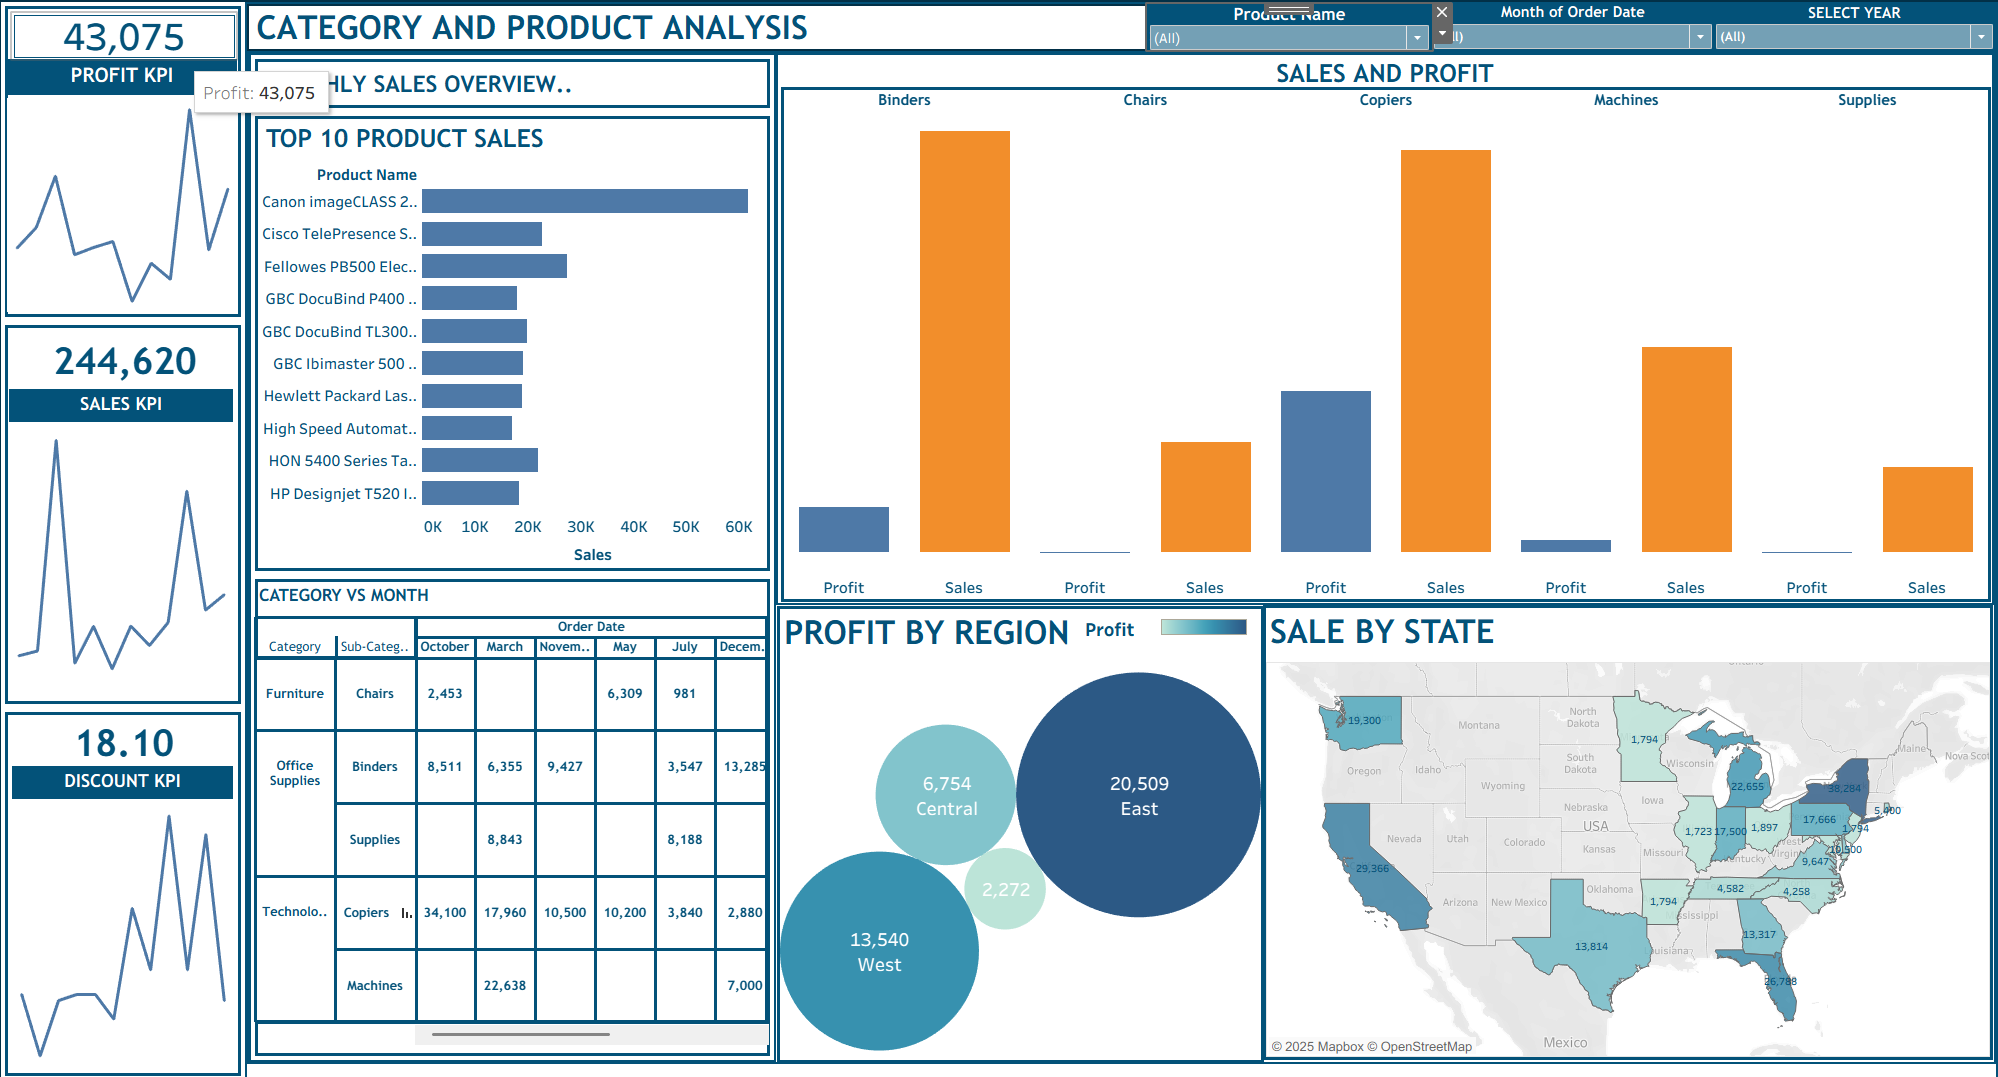

The page's visual inventory and layout, read from the dashboard file:
{"tool":"tableau","page":{"name":"Dashboard 1","canvas":[2000,1100],"ordinal":0},"visuals":[{"type":"blank","box":[2,2,244,319]},{"type":"filter","title":"MONTH","param":"[federated.0nidds01dw5ad413dkrb91yhfium].[mn:Order Date:ok]","box":[1432,3,284,48]},{"type":"filter","title":"PRODUCT NAME","param":"[federated.0nidds01dw5ad413dkrb91yhfium].[none:Product Name:nk]","box":[1148,4,285,46]},{"type":"filter","title":"YEAR","param":"[federated.0nidds01dw5ad413dkrb91yhfium].[yr:Order Date:ok]","box":[1714,4,283,47]},{"type":"text","box":[250,6,1745,43]},{"type":"worksheet","title":"PROFIT","mark":"Automatic","box":[13,13,224,46]},{"type":"worksheet","title":"MONTH","mark":"Automatic","box":[1011,51,65,206]},{"type":"text","box":[252,55,523,57]},{"type":"text","box":[779,55,1214,38]},{"type":"worksheet","title":"PROFIT KPI","mark":"Automatic","rows":["Profit"],"cols":["Order Date"],"box":[8,59,230,253]},{"type":"worksheet","title":"sales and profit","mark":"Automatic","cols":["Sub-Category"],"box":[782,87,1210,515]},{"type":"blank","box":[779,93,1214,480]},{"type":"blank","box":[252,112,523,463]},{"type":"worksheet","title":"top 10 products","mark":"Automatic","rows":["Product Name"],"cols":["Sales"],"box":[263,120,502,452]},{"type":"worksheet","title":"YEAR","mark":"Automatic","box":[1178,159,666,366]},{"type":"worksheet","title":"STATE","mark":"Automatic","box":[621,310,135,132]},{"type":"blank","box":[2,321,244,387]},{"type":"worksheet","title":"SALES KPI","mark":"Automatic","box":[14,333,223,56]},{"type":"worksheet","title":"SALES","mark":"Automatic","rows":["Sales"],"cols":["Order Date"],"box":[10,389,224,315]},{"type":"worksheet","title":"PRODUCT NAME","mark":"Automatic","box":[782,488,666,366]},{"type":"blank","box":[779,573,1214,12]},{"type":"blank","box":[252,575,523,485]},{"type":"worksheet","title":"CATEGORY VS MONTH","mark":"Automatic","rows":["Category","Sub-Category"],"cols":["Order Date"],"box":[255,581,515,503]},{"type":"blank","box":[777,605,1218,393]},{"type":"worksheet","title":"SALE BY STATE","mark":"Automatic","box":[1264,605,730,455]},{"type":"worksheet","title":"PROFIT BY REGION","mark":"Circle","box":[778,606,487,457]},{"type":"legend","title":"PROFIT BY REGION","param":"[federated.0nidds01dw5ad413dkrb91yhfium].[sum:Profit:qk]","box":[1086,615,166,39]},{"type":"blank","box":[2,708,244,372]},{"type":"worksheet","title":"DISCOUNT KPI","mark":"Automatic","box":[11,719,227,47]},{"type":"worksheet","title":"DISCOUNT","mark":"Automatic","rows":["Discount"],"cols":["Order Date"],"box":[13,766,221,303]}]}

Visuals, with their boxes in screenshot pixels (x1, y1, x2, y2):
blank: <region>0, 0, 241, 316</region>
"MONTH" filter: <region>1428, 0, 1713, 46</region>
"PRODUCT NAME" filter: <region>1144, 0, 1429, 45</region>
"YEAR" filter: <region>1711, 0, 1994, 46</region>
text: <region>245, 1, 1992, 44</region>
"PROFIT" worksheet: <region>8, 8, 232, 54</region>
"MONTH" worksheet: <region>1007, 46, 1072, 252</region>
text: <region>247, 50, 771, 107</region>
text: <region>775, 50, 1990, 88</region>
"PROFIT KPI" worksheet: <region>3, 54, 233, 307</region>
"sales and profit" worksheet: <region>778, 82, 1989, 597</region>
blank: <region>775, 88, 1990, 568</region>
blank: <region>247, 107, 771, 570</region>
"top 10 products" worksheet: <region>258, 115, 761, 567</region>
"YEAR" worksheet: <region>1174, 154, 1841, 520</region>
"STATE" worksheet: <region>616, 305, 752, 437</region>
blank: <region>0, 316, 241, 704</region>
"SALES KPI" worksheet: <region>9, 328, 232, 384</region>
"SALES" worksheet: <region>5, 384, 229, 700</region>
"PRODUCT NAME" worksheet: <region>778, 483, 1444, 850</region>
blank: <region>775, 568, 1990, 580</region>
blank: <region>247, 570, 771, 1056</region>
"CATEGORY VS MONTH" worksheet: <region>250, 576, 766, 1076</region>
blank: <region>773, 600, 1992, 994</region>
"SALE BY STATE" worksheet: <region>1260, 600, 1991, 1056</region>
"PROFIT BY REGION" worksheet (Circle marks): <region>774, 601, 1261, 1059</region>
"PROFIT BY REGION" legend: <region>1082, 610, 1248, 650</region>
blank: <region>0, 704, 241, 1076</region>
"DISCOUNT KPI" worksheet: <region>6, 715, 233, 762</region>
"DISCOUNT" worksheet: <region>8, 762, 229, 1065</region>
